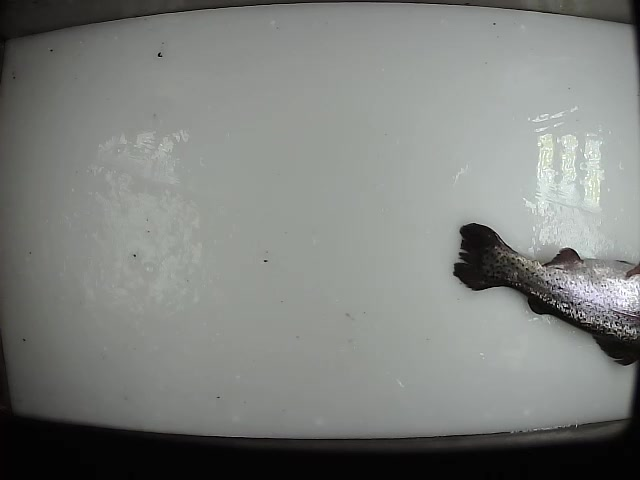fish: (451, 221, 640, 367)
